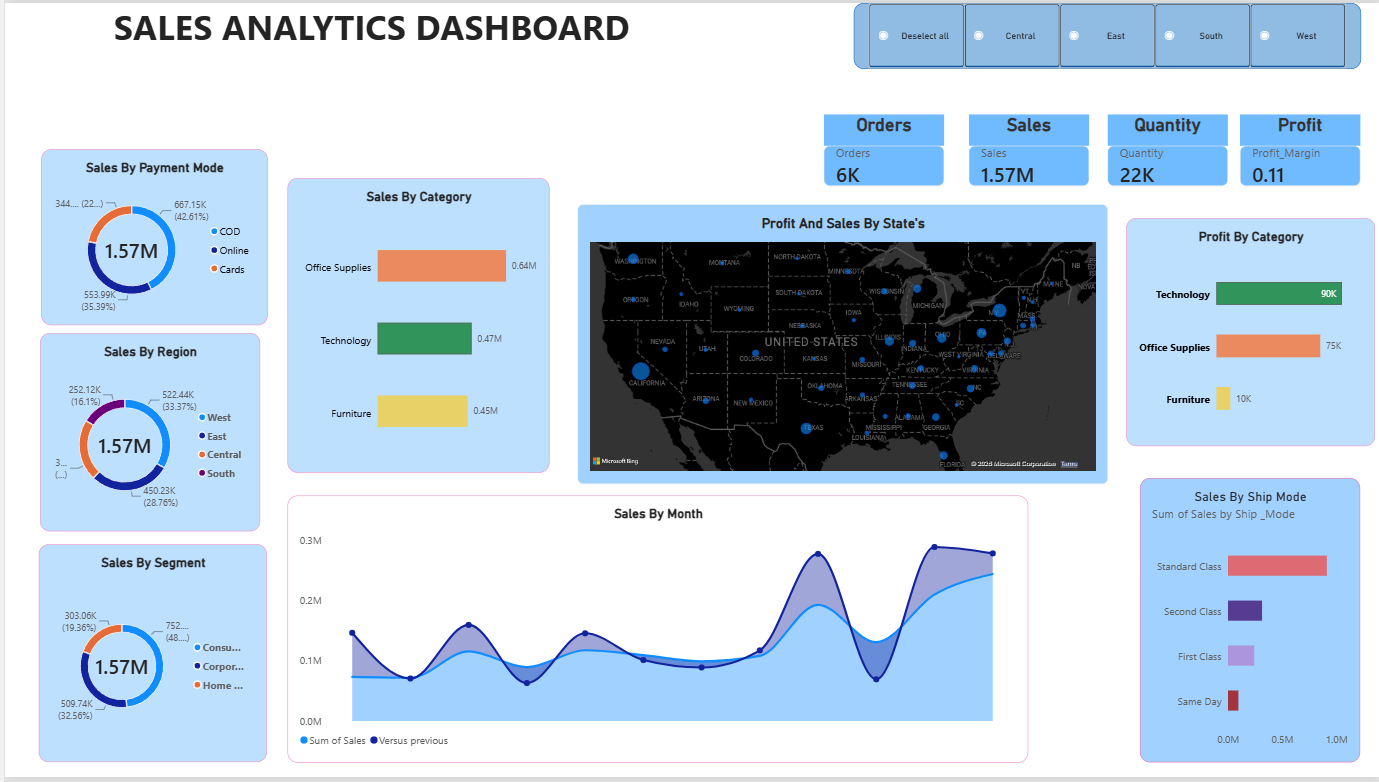

The dashboard page shown, as its layout file describes it:
{"tool":"powerbi","page":{"name":"Page 1","canvas":[1920,1080],"ordinal":0},"visuals":[{"type":"cardVisual","title":"Profit","fields":{"Data":["dim_customers.Profit_Margin"]},"box":[1724,156,168,100],"z":0},{"type":"barChart","title":"Sales By Category","fields":{"Category":["dim_product.Category"],"Y":["Sum(fact_sales.Sales)"]},"box":[394,244,365.7,411.4],"z":1000},{"type":"barChart","title":"Profit By Category","fields":{"Category":["fact_sales.Category"],"Y":["Sum(fact_sales.Profit)"]},"box":[1564,300,347.1,318.6],"z":2000},{"type":"donutChart","title":"Sales By Region","fields":{"Category":["fact_sales.Region"],"Series":["fact_sales.Region"],"Y":["Sum(fact_sales.Sales)"]},"box":[48,460,307.1,277.1],"z":3000},{"type":"donutChart","title":"Sales By Segment","fields":{"Series":["fact_sales.Segment"],"Y":["Sum(fact_sales.Sales)"]},"box":[47.1,755.7,318.6,304.3],"z":4000},{"type":"clusteredBarChart","title":"Sales By Ship Mode","fields":{"Category":["fact_sales.Ship _Mode"],"Y":["Sum(fact_sales.Sales)"]},"box":[1584,662,307.1,397.1],"z":5000},{"type":"stackedAreaChart","title":"Sales By Month","fields":{"Category":["fact_sales.Order _Date.Variation.Date Hierarchy.Month"],"Y":["Sum(fact_sales.Sales)","select"]},"box":[394,688,1033.8,372.5],"z":6000},{"type":"donutChart","title":"Sales By Payment Mode","fields":{"Category":["fact_sales.Payment Mode"],"Y":["Sum(fact_sales.Sales)"]},"box":[50,204,315.7,245.7],"z":7000},{"type":"advancedSlicerVisual","fields":{"Values":["fact_sales.Region"]},"box":[1184,0,708,92],"z":8000},{"type":"cardVisual","title":"Quantity","fields":{"Data":["dim_customers.Quantity"]},"box":[1538,156,168,100],"z":9000},{"type":"cardVisual","title":"Sales","fields":{"Data":["dim_customers.Sales"]},"box":[1344,156,168,100],"z":10000},{"type":"cardVisual","title":"Orders","fields":{"Data":["dim_customers.Orders"]},"box":[1142,156,168,100],"z":11000},{"type":"map","title":"Profit And Sales By State''s","fields":{"Category":["dim_location.State"],"Size":["Sum(fact_sales.Sales)"]},"box":[798.6,280,740,390],"z":12000},{"type":"textbox","box":[47,0,307,150],"z":13000},{"type":"textbox","box":[48,0,926,150],"z":14000}]}

Visuals, with their boxes in screenshot pixels (x1, y1, x2, y2), scaled from the page's 1920x1080 canvas onto the 1379x782 screenshot:
"Profit" cardVisual: {"left": 1238, "top": 113, "right": 1359, "bottom": 185}
"Sales By Category" barChart: {"left": 283, "top": 177, "right": 546, "bottom": 475}
"Profit By Category" barChart: {"left": 1123, "top": 217, "right": 1373, "bottom": 448}
"Sales By Region" donutChart: {"left": 34, "top": 333, "right": 255, "bottom": 534}
"Sales By Segment" donutChart: {"left": 34, "top": 547, "right": 263, "bottom": 768}
"Sales By Ship Mode" clusteredBarChart: {"left": 1138, "top": 479, "right": 1358, "bottom": 767}
"Sales By Month" stackedAreaChart: {"left": 283, "top": 498, "right": 1025, "bottom": 768}
"Sales By Payment Mode" donutChart: {"left": 36, "top": 148, "right": 263, "bottom": 326}
advancedSlicerVisual - fact_sales.Region: {"left": 850, "top": 0, "right": 1359, "bottom": 67}
"Quantity" cardVisual: {"left": 1105, "top": 113, "right": 1225, "bottom": 185}
"Sales" cardVisual: {"left": 965, "top": 113, "right": 1086, "bottom": 185}
"Orders" cardVisual: {"left": 820, "top": 113, "right": 941, "bottom": 185}
"Profit And Sales By State''s" map: {"left": 574, "top": 203, "right": 1105, "bottom": 485}
textbox: {"left": 34, "top": 0, "right": 254, "bottom": 109}
textbox: {"left": 34, "top": 0, "right": 700, "bottom": 109}
